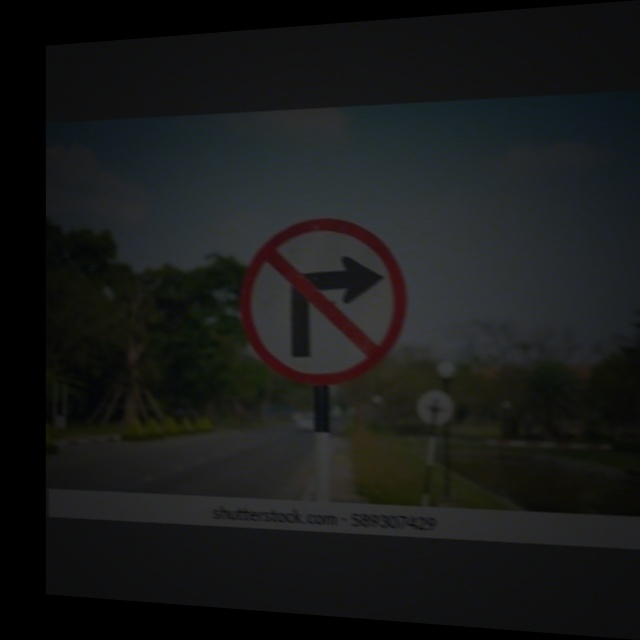Right_Turn_Prohibited: (239, 216, 408, 388)
